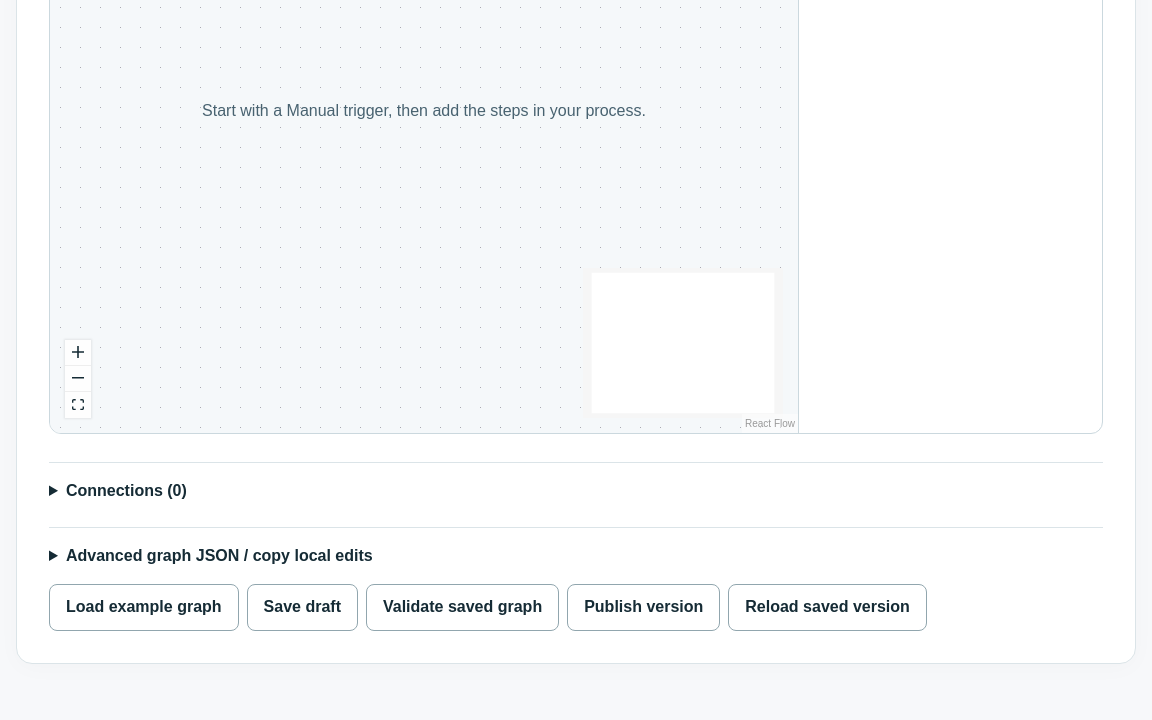
Test: invalid publication displays safe node-specific issues
(page scrolled)
Click the button "Publish version" at (644, 607), box [567,584,720,631]
(page scrolled)
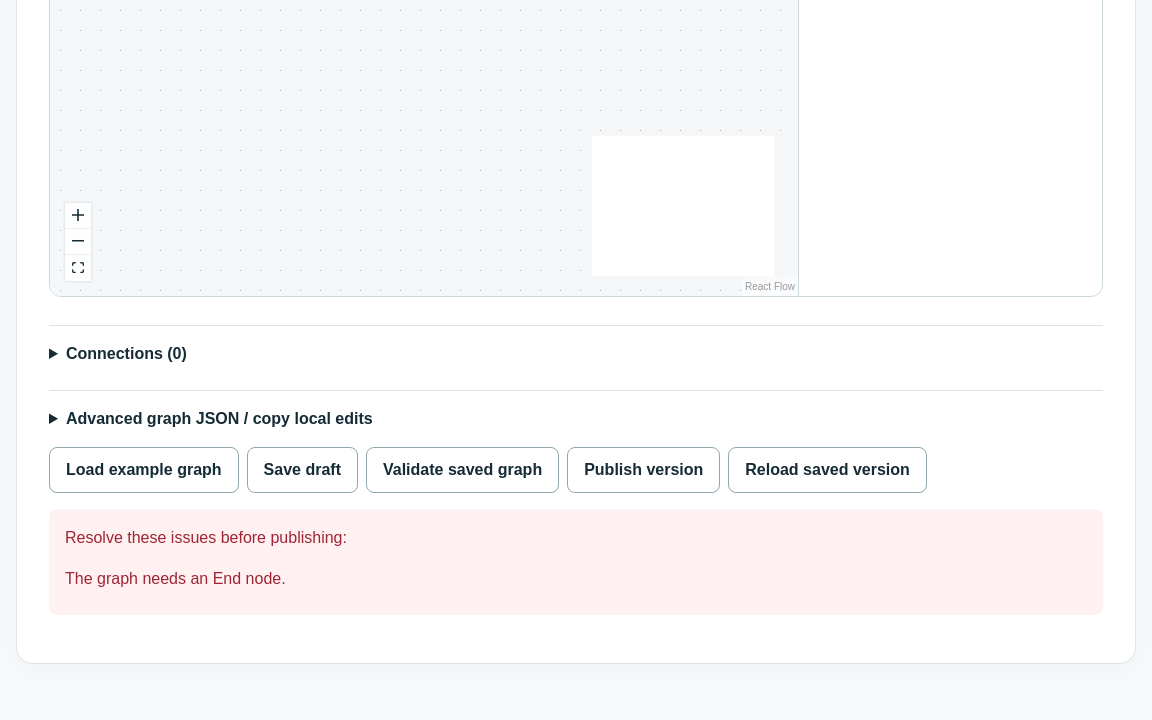
Now the list item "The graph needs an End node." is shown, box [65,570,286,587]
